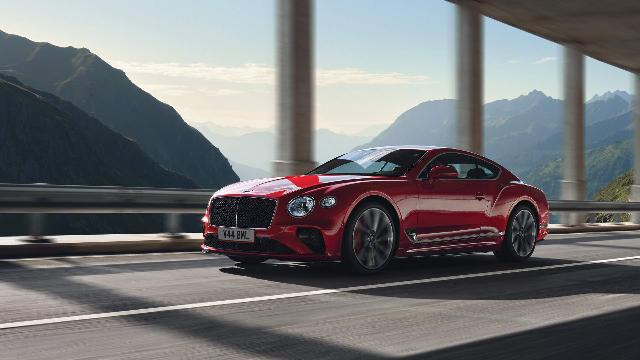bentley: (200, 146, 550, 276)
